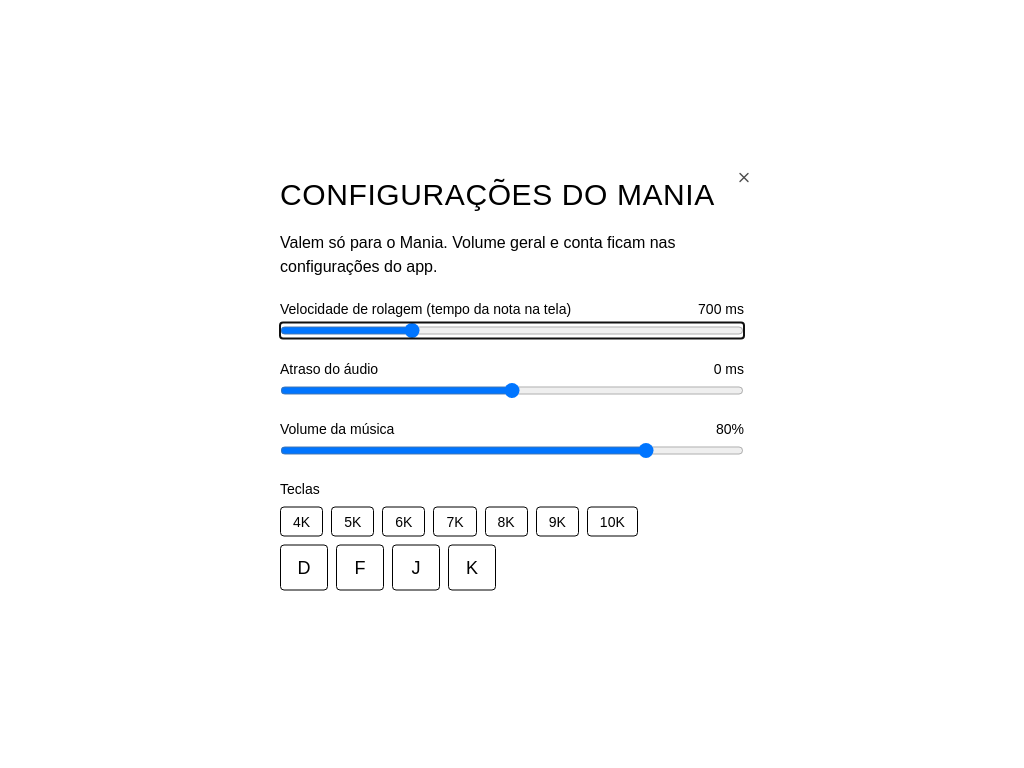
it: mostra as teclas de cada K
The image size is (1024, 768).
Click the radio button labelled "7K" at (455, 522), box [433,506,476,536]
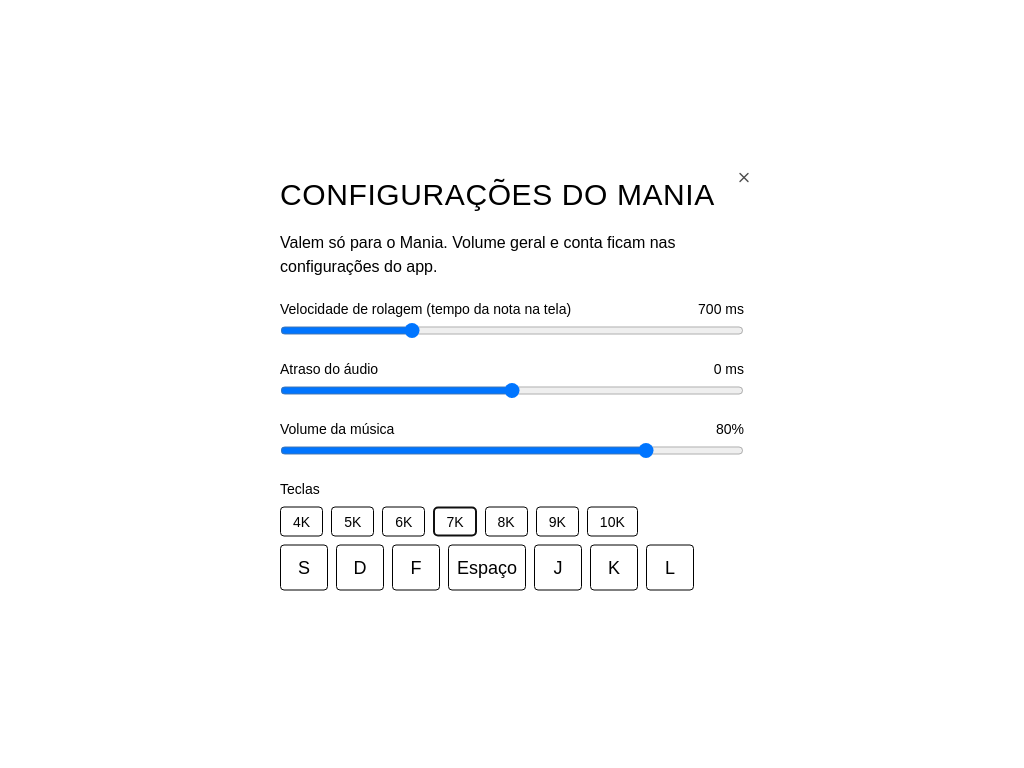
Expected: the number of buttons "S" is 7
